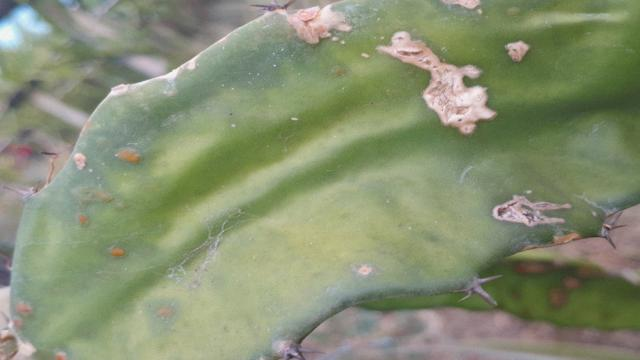stemcanker: (64, 181, 118, 209), (107, 140, 147, 168), (106, 240, 134, 264), (68, 208, 96, 232), (153, 299, 181, 323)
